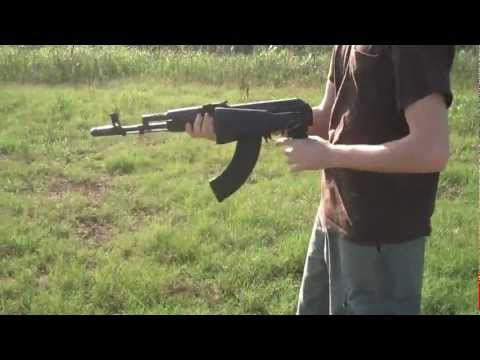ak47: (93, 97, 314, 201)
